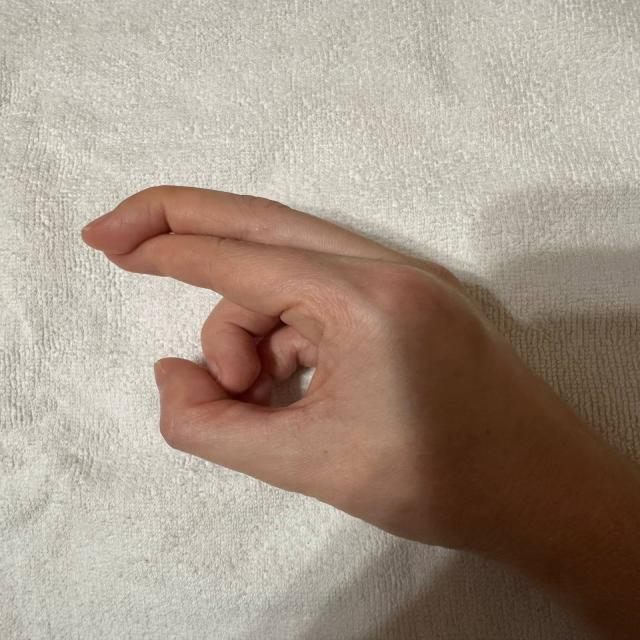ia: (76, 163, 594, 575)
